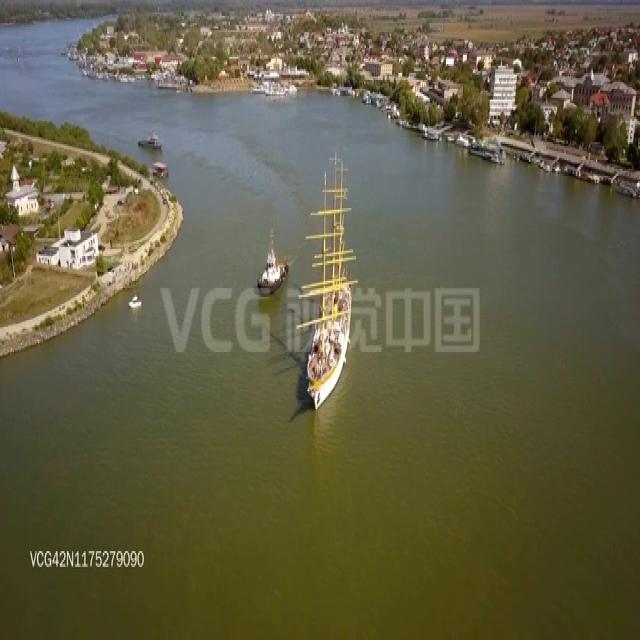houseboat: (257, 228, 285, 294), (138, 127, 164, 154), (151, 155, 168, 180), (127, 292, 145, 310)
sailboat: (302, 150, 354, 410)
